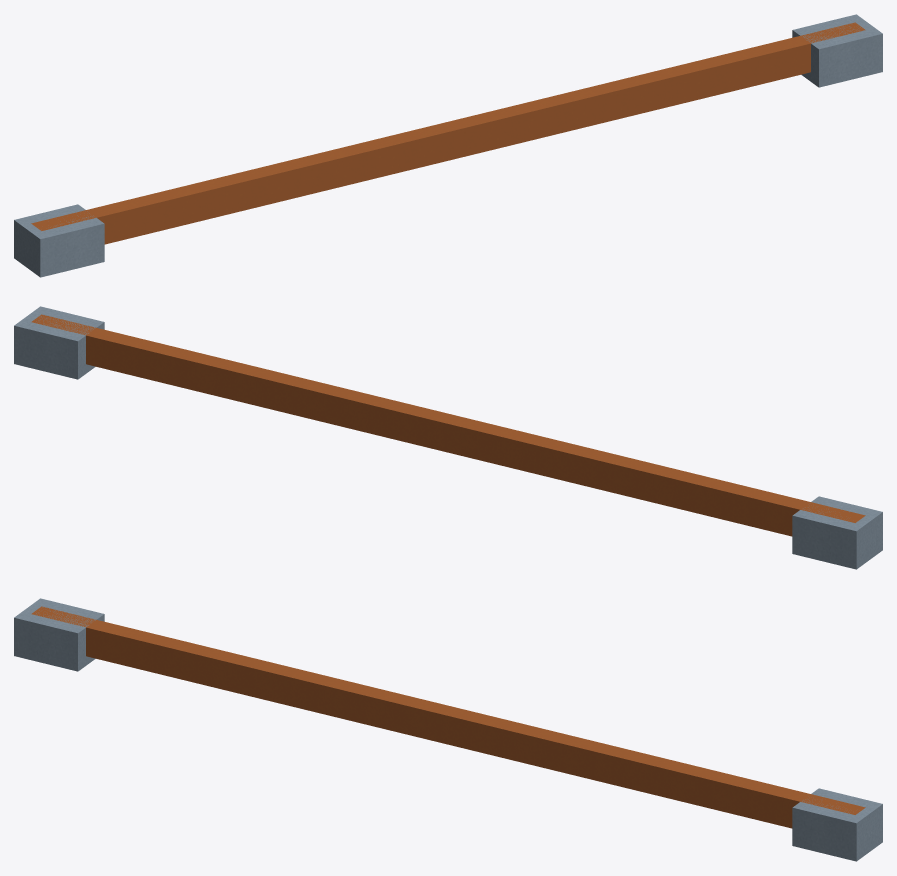
3 renders of one model, top to bottom at view 1: azimuth 30°, elevation 25°; view 2: azimuth 150°, elevation 25°; view 3: azimuth 330°, elevation 25°, orthographic.
Visible parts, largest first — view 1: 431_L127_HP2__PSMAT__heatpipe, 431_L127_HP2__PSMAT__aluminum; view 2: 431_L127_HP2__PSMAT__heatpipe, 431_L127_HP2__PSMAT__aluminum; view 3: 431_L127_HP2__PSMAT__heatpipe, 431_L127_HP2__PSMAT__aluminum.
Part boxes in pixels (x1,y1,x2,y2): 431_L127_HP2__PSMAT__heatpipe: (31, 22, 865, 244); 431_L127_HP2__PSMAT__aluminum: (14, 14, 882, 277); 431_L127_HP2__PSMAT__heatpipe: (31, 314, 865, 536); 431_L127_HP2__PSMAT__aluminum: (14, 306, 882, 569); 431_L127_HP2__PSMAT__heatpipe: (31, 606, 865, 828); 431_L127_HP2__PSMAT__aluminum: (14, 598, 882, 861).
Bounding box in the file's own units: 0.184 × 0.008 × 0.01.
2 materials, 2 textured.
